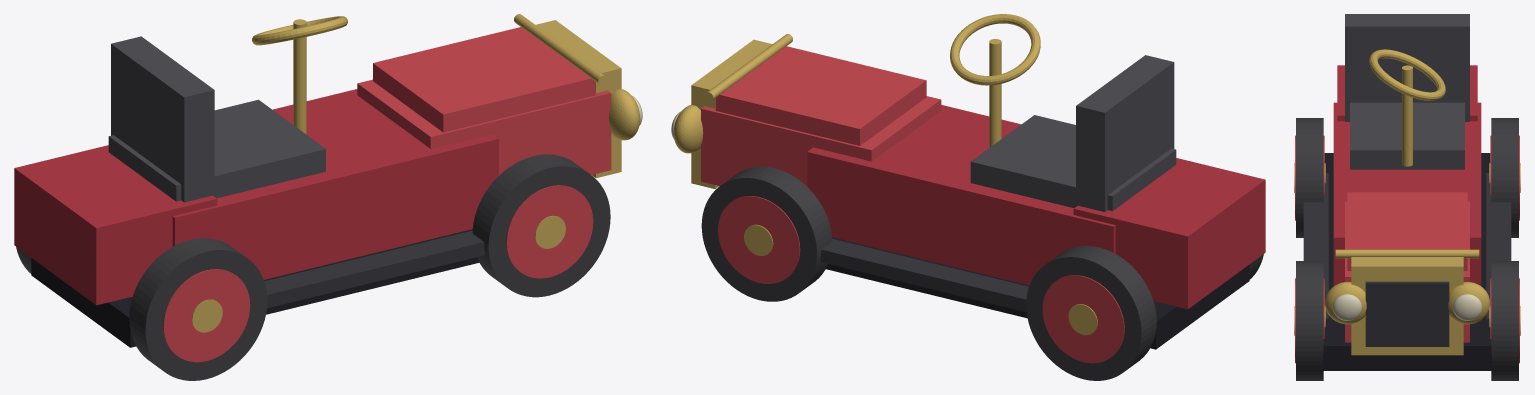
File: vintage_car_rotating.glb
3 renders of one model, left to right at view 1: azimuth 30°, elevation 25°; view 2: azimuth 150°, elevation 25°; view 3: azimuth 270°, elevation 25°, orthographic. The views are drawn at different scales.
Visible parts, largest first — view 1: MainBody, RearBox, HoodTop, SeatBack, Hood, SeatBase, Wheel_-1.35_R, Wheel_1.35_R, RunningBoardR, Rim_1.35_R, Rim_-1.35_R, Chassis (+7 smaller); view 2: MainBody, RearBox, HoodTop, SeatBack, Hood, SeatBase, Wheel_-1.35_L, Wheel_1.35_L, RunningBoardL, Rim_-1.35_L, Rim_1.35_L, Chassis (+7 smaller); view 3: SeatBack, MainBody, HoodTop, SeatBase, Chassis, RadiatorGrille, Radiator, Wheel_1.35_L, Wheel_1.35_R, Wheel_-1.35_L, Wheel_-1.35_R, RunningBoardL (+14 smaller).
Part boxes in pixels (<box>): MainBody: <box>172,89,498,279</box>; RearBox: <box>14,145,217,305</box>; HoodTop: <box>373,27,595,132</box>; SeatBack: <box>111,36,214,202</box>; Hood: <box>357,79,611,175</box>; SeatBase: <box>108,99,325,201</box>; Wheel_-1.35_R: <box>129,238,267,380</box>; Wheel_1.35_R: <box>472,154,610,297</box>; RunningBoardR: <box>264,230,485,308</box>; Rim_1.35_R: <box>506,185,593,278</box>; Rim_-1.35_R: <box>163,269,250,362</box>; Chassis: <box>31,229,479,347</box>; MainBody: <box>807,105,1115,285</box>; RearBox: <box>1073,158,1265,309</box>; HoodTop: <box>715,46,926,145</box>; SeatBack: <box>1076,55,1174,211</box>; Hood: <box>701,96,941,186</box>; SeatBase: <box>970,115,1176,211</box>; Wheel_-1.35_L: <box>1026,246,1156,380</box>; Wheel_1.35_L: <box>701,166,832,301</box>; RunningBoardL: <box>820,239,1028,312</box>; Rim_-1.35_L: <box>1042,275,1124,363</box>; Rim_1.35_L: <box>718,196,800,283</box>; Chassis: <box>826,237,1249,349</box>; SeatBack: <box>1345,14,1469,121</box>; MainBody: <box>1333,102,1481,285</box>; HoodTop: <box>1347,192,1467,270</box>; SeatBase: <box>1350,102,1464,169</box>; Chassis: <box>1323,153,1491,370</box>; RadiatorGrille: <box>1365,281,1449,346</box>; Radiator: <box>1351,257,1463,355</box>; Wheel_1.35_L: <box>1491,261,1518,380</box>; Wheel_1.35_R: <box>1296,261,1323,380</box>; Wheel_-1.35_L: <box>1491,118,1518,237</box>; Wheel_-1.35_R: <box>1296,118,1323,237</box>; RunningBoardL: <box>1486,173,1511,319</box>.
Bounding box in the file's own units: 4.31 × 2.13 × 1.81.
